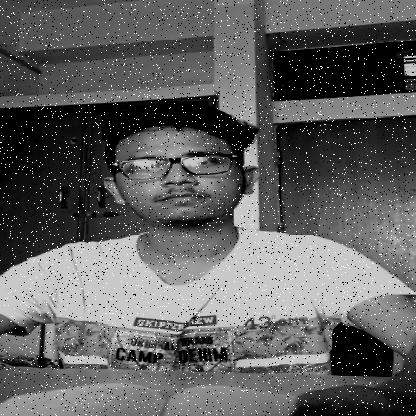Normal: (102, 120, 282, 224)
